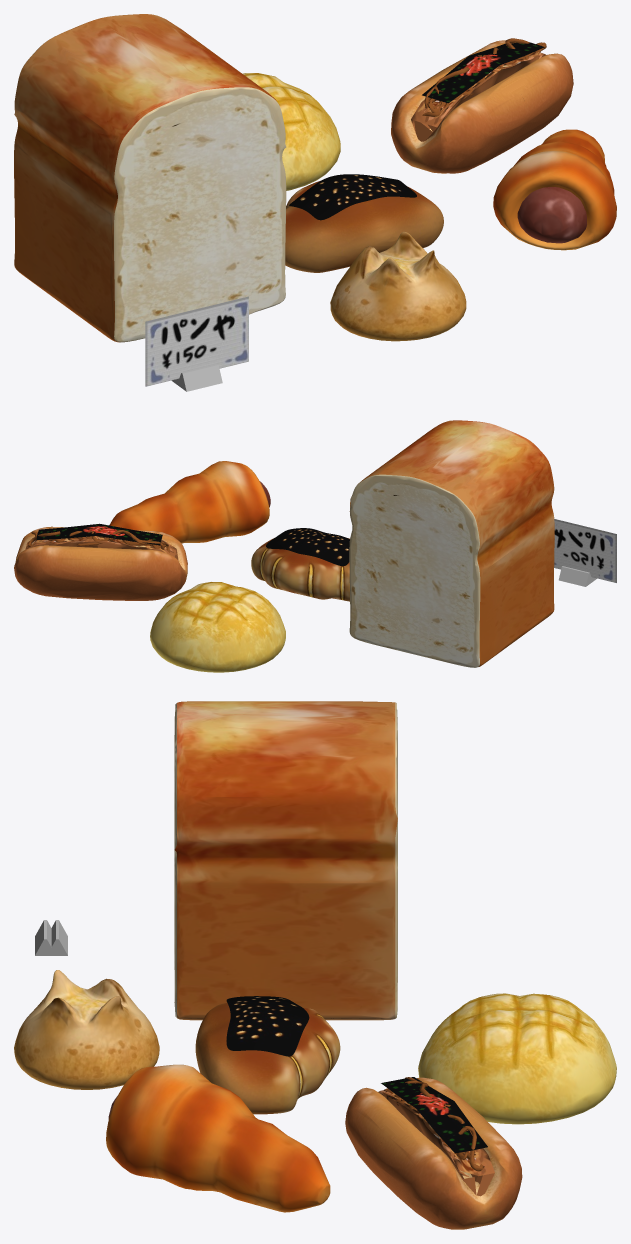
Rendered from breads.glb.
3 renders of one model, top to bottom at view 1: azimuth 30°, elevation 25°; view 2: azimuth 150°, elevation 25°; view 3: azimuth 270°, elevation 25°, orthographic. The views are drawn at different scales.
Visible parts, largest first — view 1: Syokupan, Yakisoba, _cream, Jagafrance, Cream, object 15, Meron, Cream-goma, Yakisoba-Gu02, Yakisoba-Gu01, Card, men03; view 2: Syokupan, Meron, Yakisoba, _cream, Cream, object 15, Cream-goma, Yakisoba-Gu02, Yakisoba-Gu01, men03, Card; view 3: Syokupan, _cream, Meron, Yakisoba, Jagafrance, Cream, Cream-goma, Yakisoba-Gu02, Yakisoba-Gu01, Card.
Part boxes in pixels (x1,y1,x2,y2): Syokupan: [14, 14, 286, 342]; Yakisoba: [391, 40, 573, 173]; _cream: [493, 129, 616, 250]; Jagafrance: [330, 231, 466, 341]; Cream: [285, 180, 443, 272]; object 15: [145, 296, 248, 386]; Meron: [242, 73, 340, 190]; Cream-goma: [289, 174, 416, 220]; Yakisoba-Gu02: [422, 42, 544, 103]; Yakisoba-Gu01: [411, 52, 545, 141]; Card: [171, 364, 222, 391]; men03: [424, 38, 540, 112]; Syokupan: [349, 420, 554, 667]; Meron: [150, 582, 285, 672]; Yakisoba: [14, 526, 187, 600]; _cream: [109, 461, 270, 543]; Cream: [251, 538, 349, 601]; object 15: [554, 519, 616, 582]; Cream-goma: [266, 528, 349, 566]; Yakisoba-Gu02: [36, 523, 162, 545]; Yakisoba-Gu01: [25, 536, 178, 560]; men03: [28, 530, 168, 549]; Card: [558, 566, 596, 586]; Syokupan: [174, 701, 397, 1020]; _cream: [106, 1064, 330, 1212]; Meron: [418, 993, 616, 1124]; Yakisoba: [345, 1077, 522, 1229]; Jagafrance: [14, 970, 159, 1089]; Cream: [195, 1003, 340, 1114]; Cream-goma: [226, 996, 309, 1056]; Yakisoba-Gu02: [381, 1077, 487, 1153]; Yakisoba-Gu01: [378, 1089, 494, 1196]; Card: [35, 920, 67, 955].
Bounding box in the file's own units: 2.43 × 0.9006 × 1.89.
3 materials, 1 textured.
